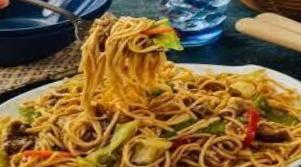pancit bihon: (3, 14, 300, 166)
